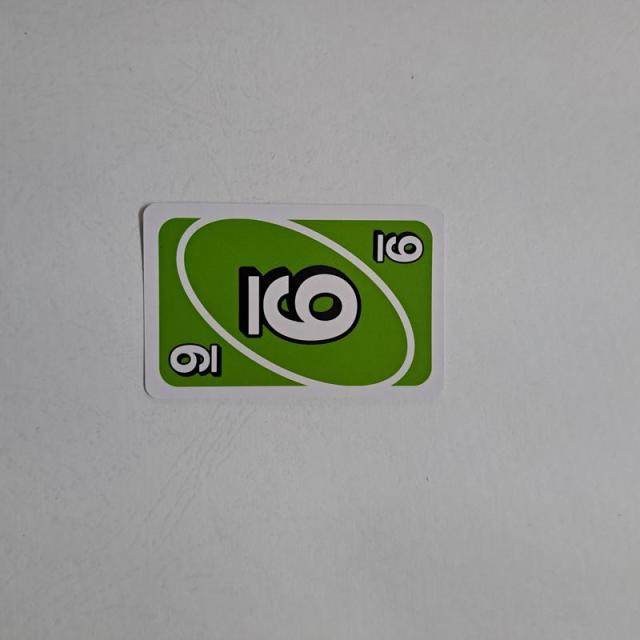Green_Card: (153, 208, 434, 395)
Number_9: (368, 226, 429, 275)
